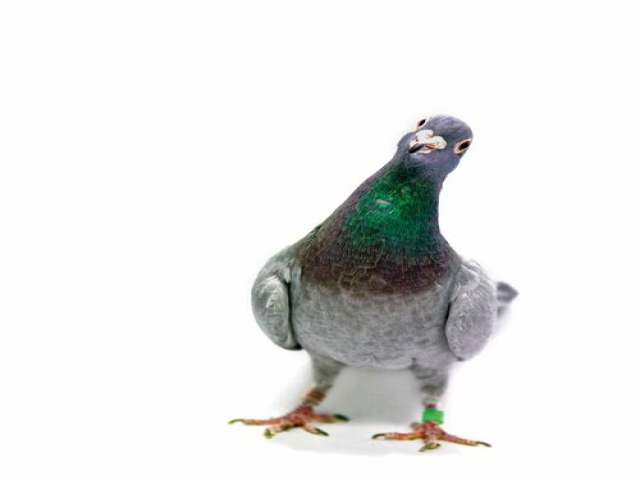Pigeon: (217, 111, 536, 454)
